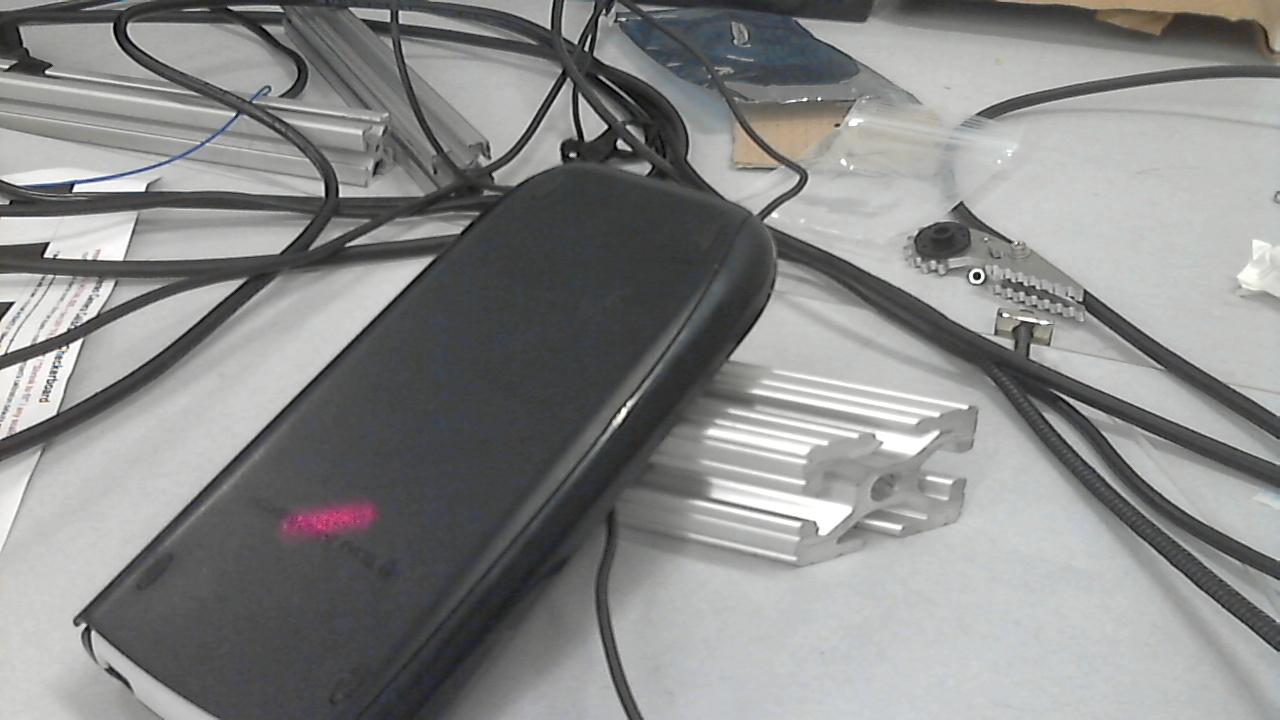Object graphing calculator slide case - Material plastic - Pdfname as1D2765rACT: (249, 478, 396, 544)
